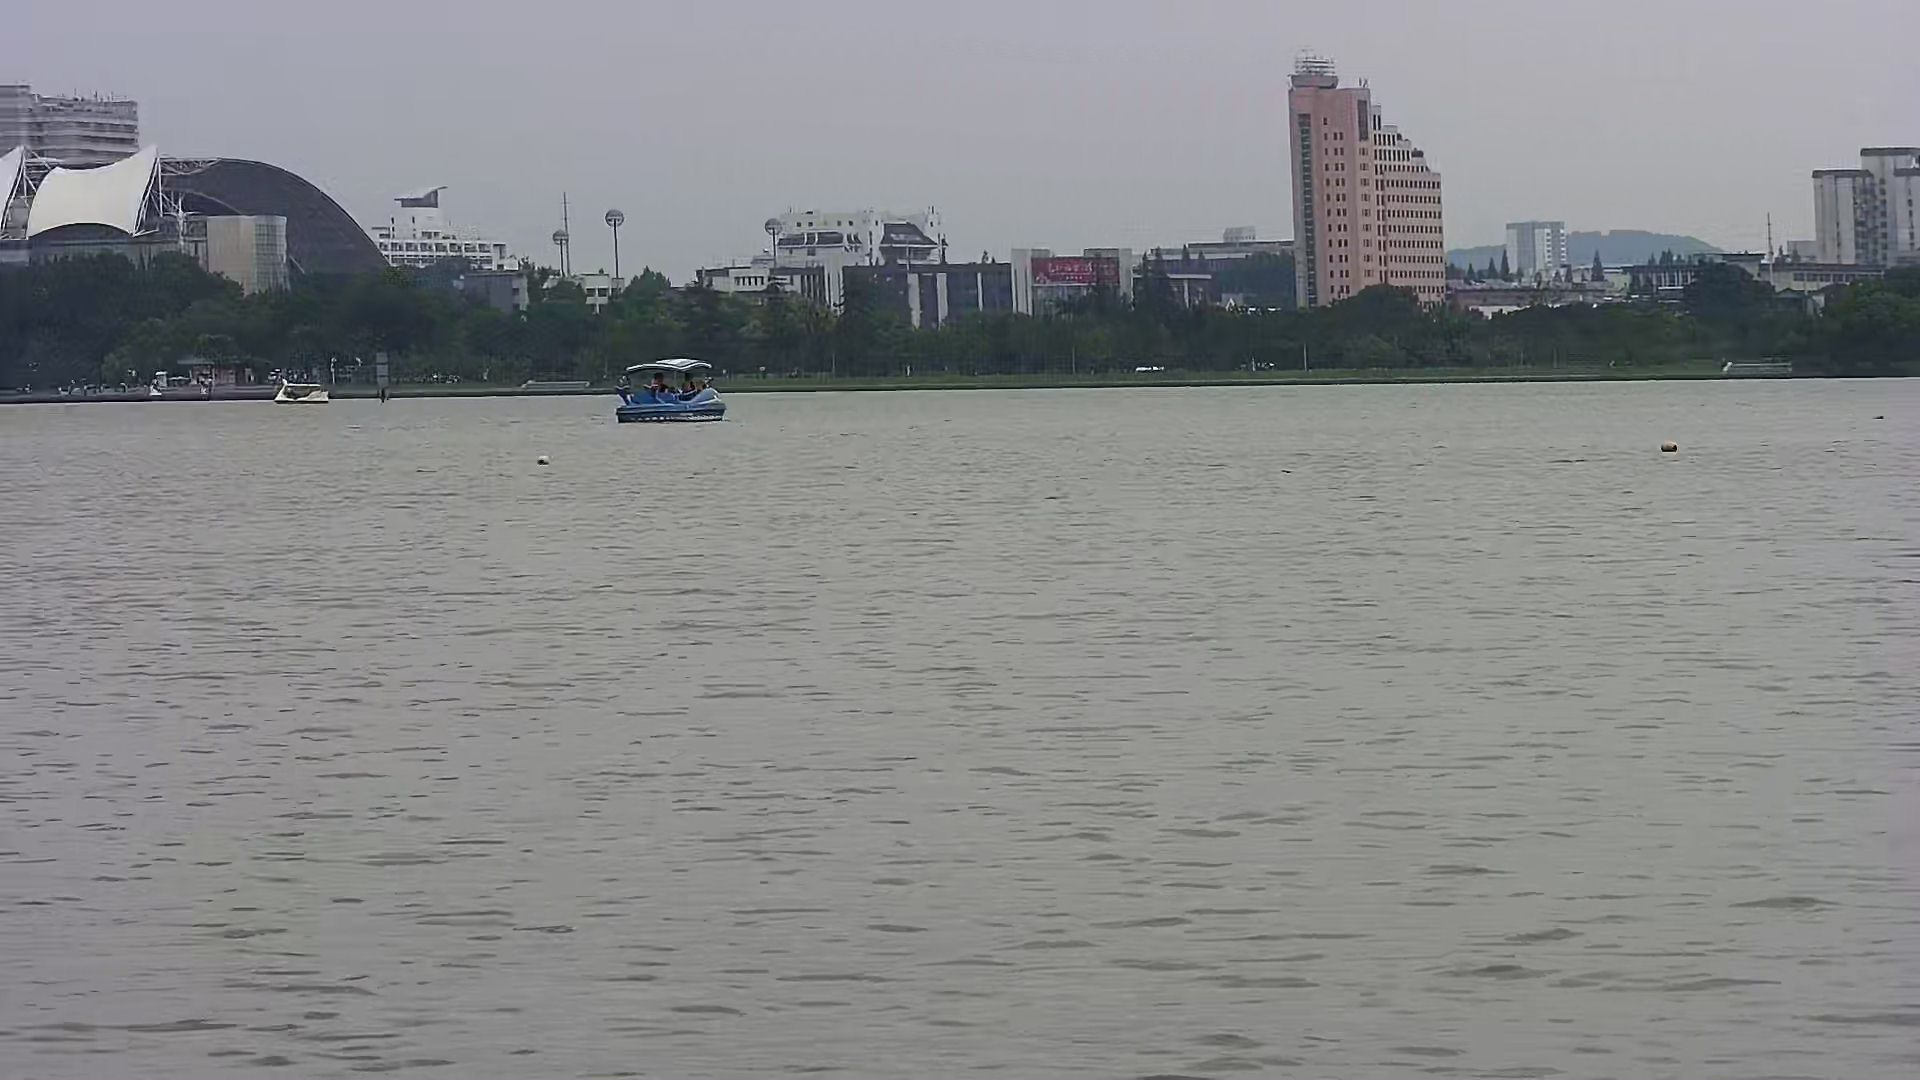boat: (615, 349, 731, 430), (266, 382, 327, 409)
rubbish: (1662, 435, 1687, 458)
